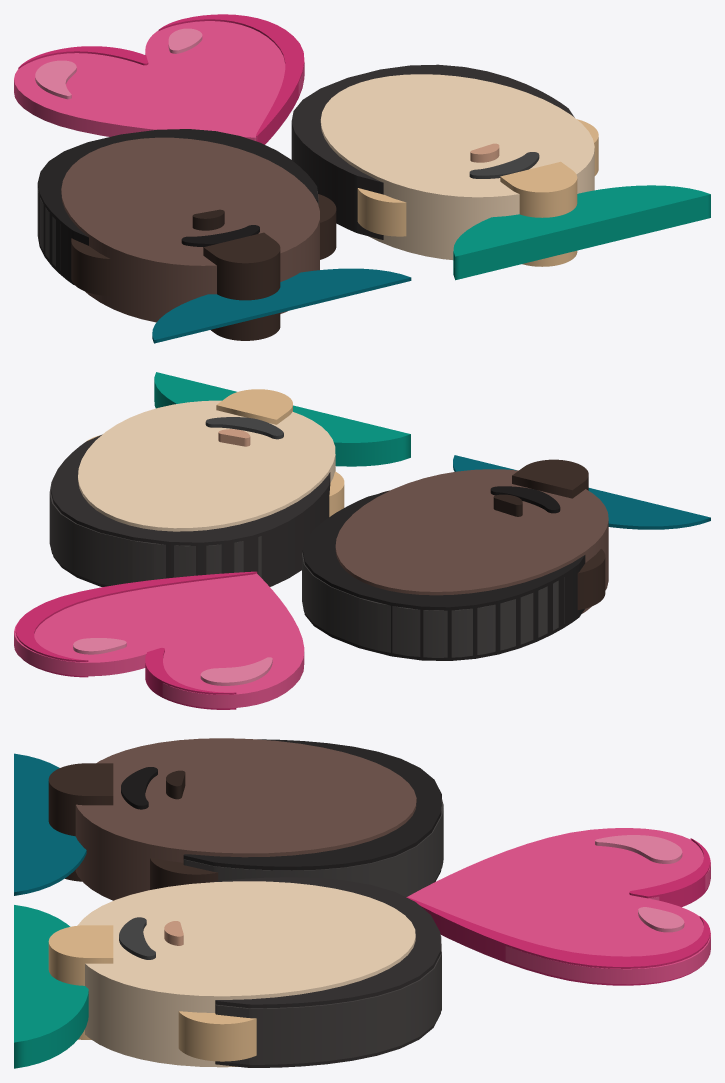
File: emoji_u1f468_1f3ff_200d_2764_200d_1f468_1f3fb.glb
3 renders of one model, top to bottom at view 1: azimuth 30°, elevation 25°; view 2: azimuth 150°, elevation 25°; view 3: azimuth 270°, elevation 25°, orthographic. The views are drawn at different scales.
Parts seen in each view (by area): view 1: emoji_u1f468_1f3ff_200d_2764_200d_1f468_1f3fb; view 2: emoji_u1f468_1f3ff_200d_2764_200d_1f468_1f3fb; view 3: emoji_u1f468_1f3ff_200d_2764_200d_1f468_1f3fb.
Part boxes in pixels (left/top/right/bottom): emoji_u1f468_1f3ff_200d_2764_200d_1f468_1f3fb: left=14, top=14, right=710, bottom=343; emoji_u1f468_1f3ff_200d_2764_200d_1f468_1f3fb: left=14, top=372, right=710, bottom=709; emoji_u1f468_1f3ff_200d_2764_200d_1f468_1f3fb: left=14, top=738, right=710, bottom=1068.
Bounding box in the file's own units: 0.0345 × 0.005 × 0.0338.
